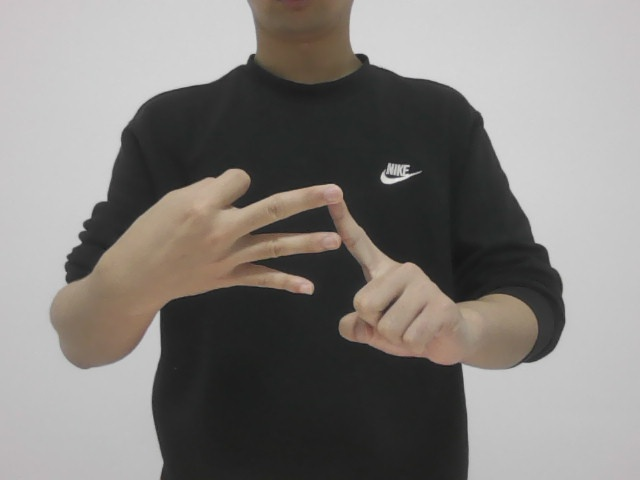name: (140, 170, 476, 367)
